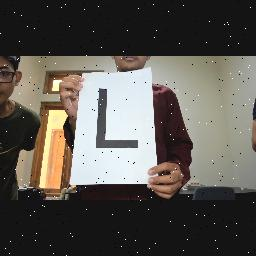l: (90, 86, 144, 154)
